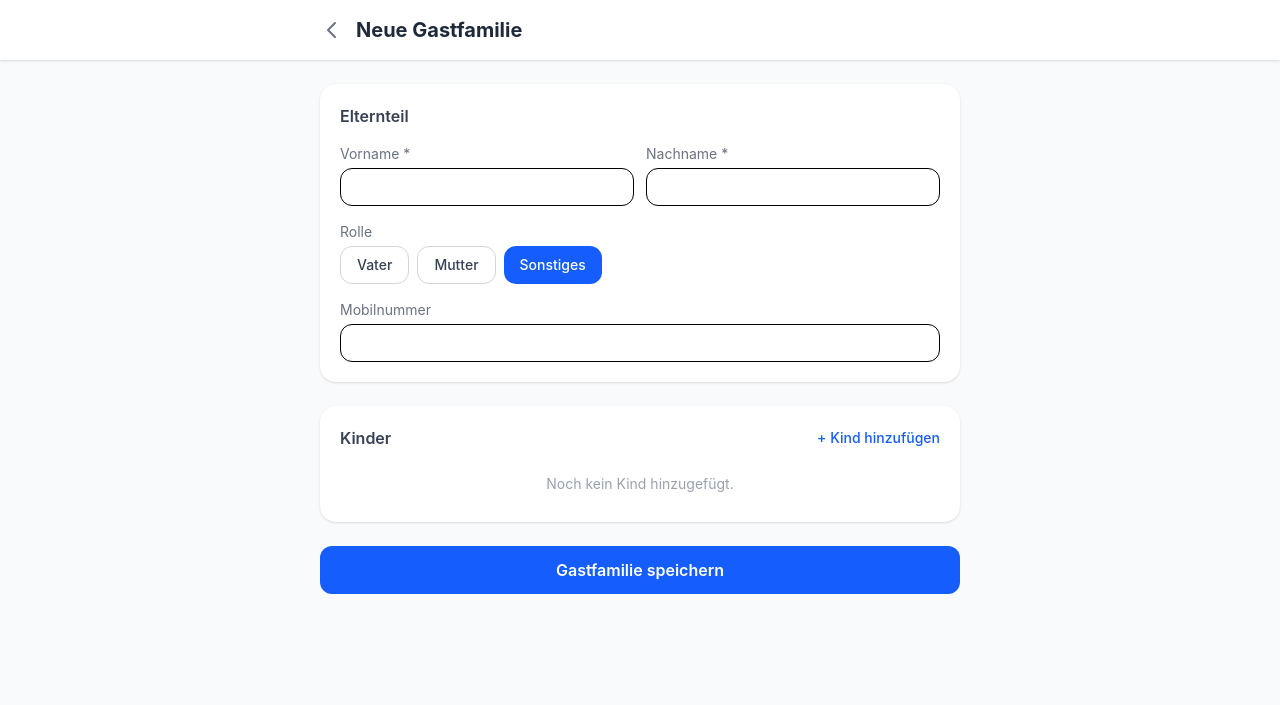
Test: NewGuestView – addChild pre-fills parent last name › pre-fills child last name with parent last name
Note: Set parent last name.
Type "Schneider" into the field below "Nachname *" at (793,187), box top-left (646, 168), bottom-right (940, 206)
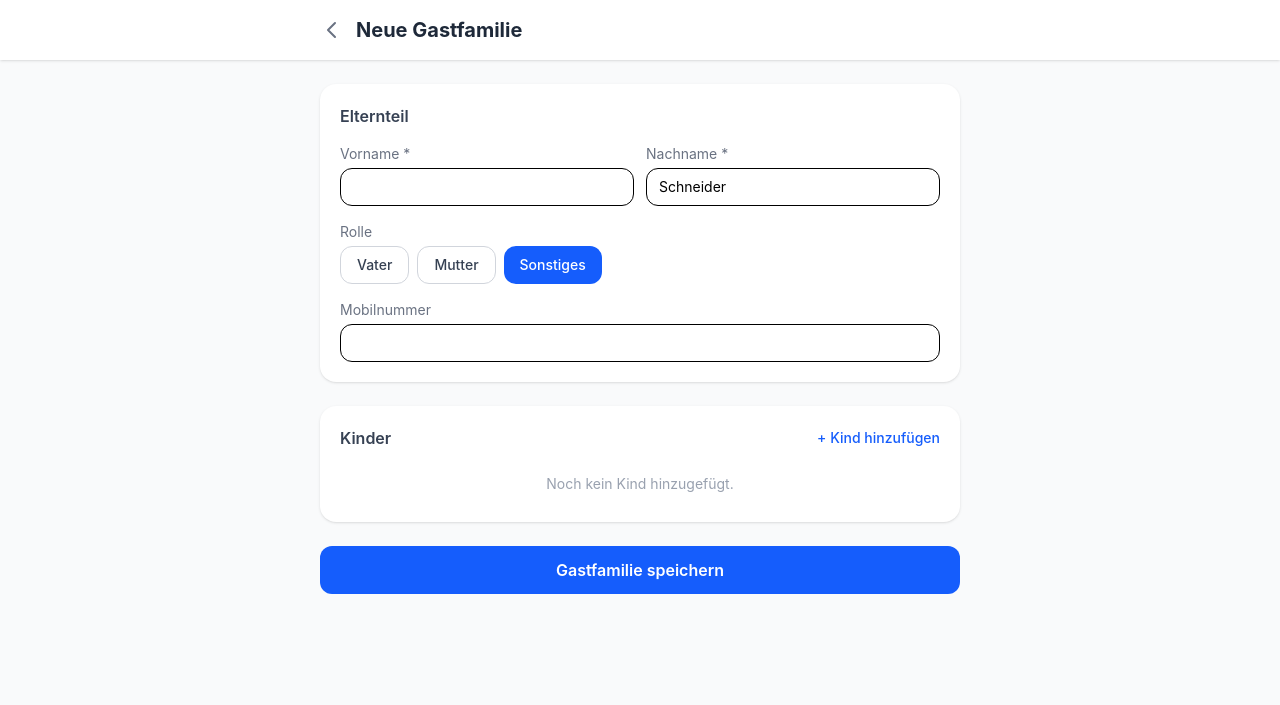
Note: Add a child.
Click the button "+ Kind hinzufügen" at (879,438), box top-left (817, 428), bottom-right (940, 448)
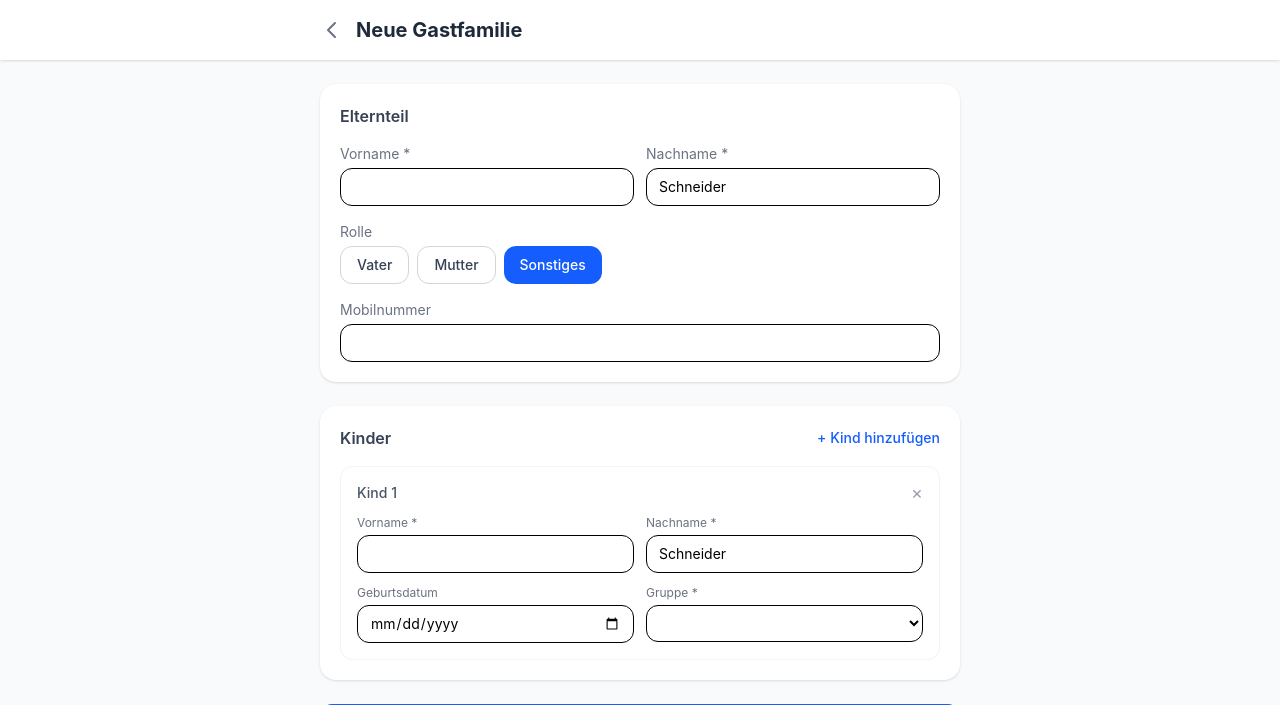
Result: the 5th field holds "Schneider" at top-left (646, 535), bottom-right (923, 573)
